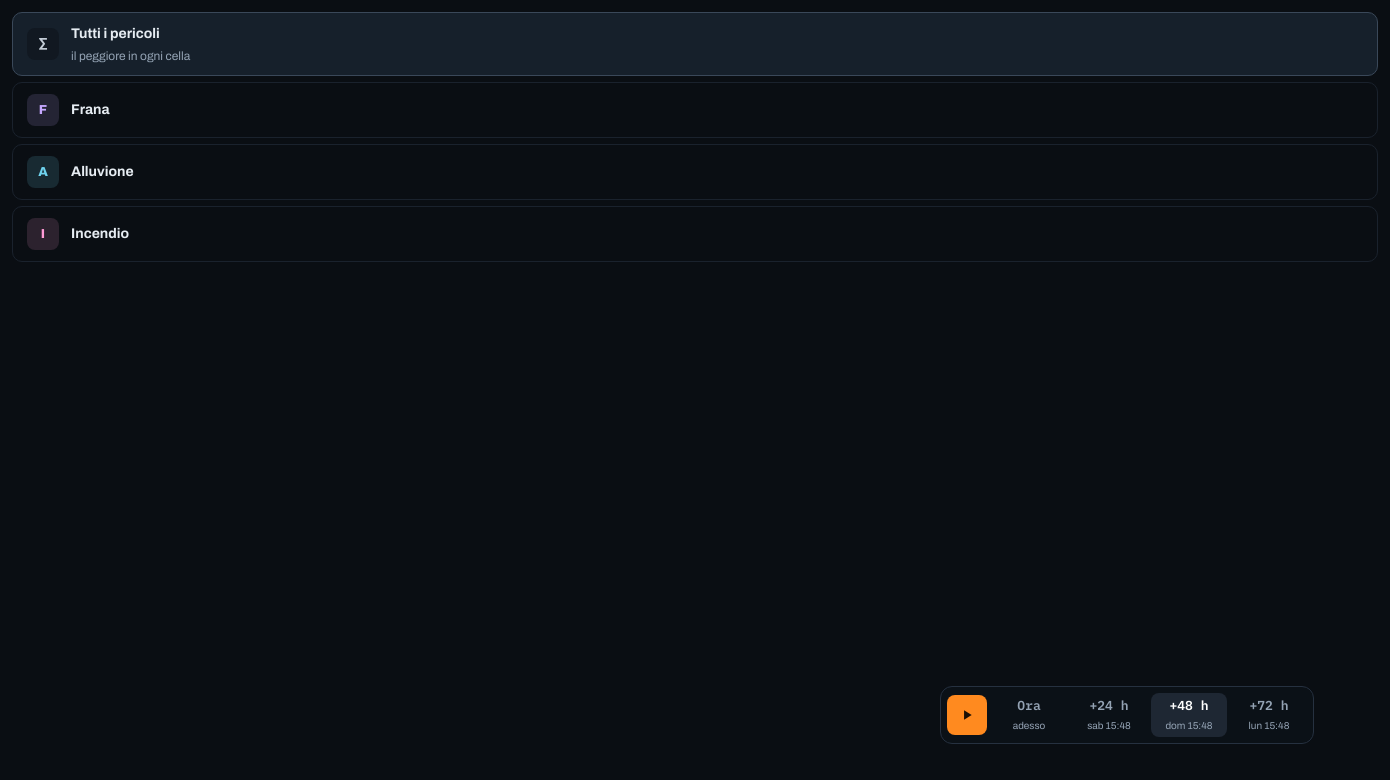
Test: la previsione sulla mappa › un pericolo senza corsa previsionale non ha futuro da scegliere
The width and height of the screenshot is (1390, 780).
Click the button "A Alluvione": (43, 172) [12,144,1378,200]
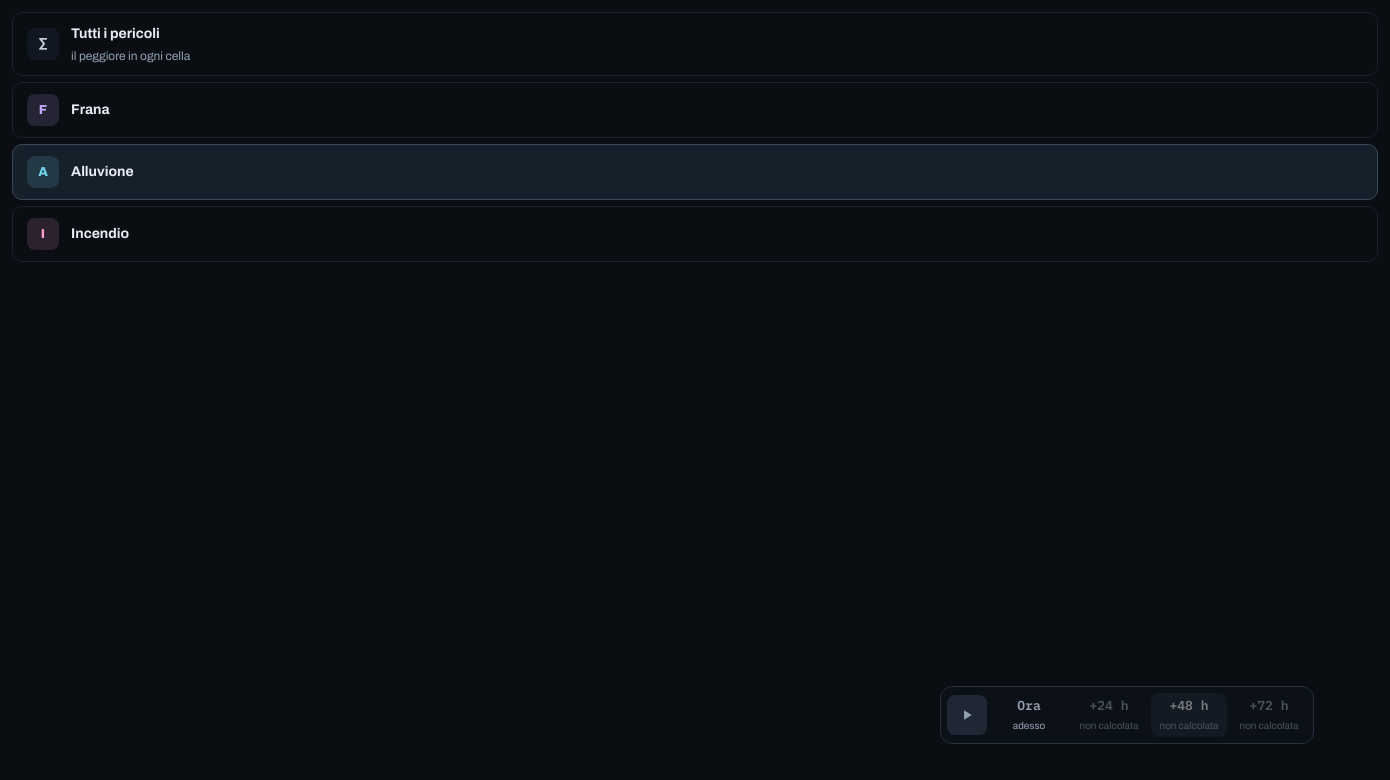
Now the button "+48 h non calcolata" is disabled, box [1151,693,1227,737]
